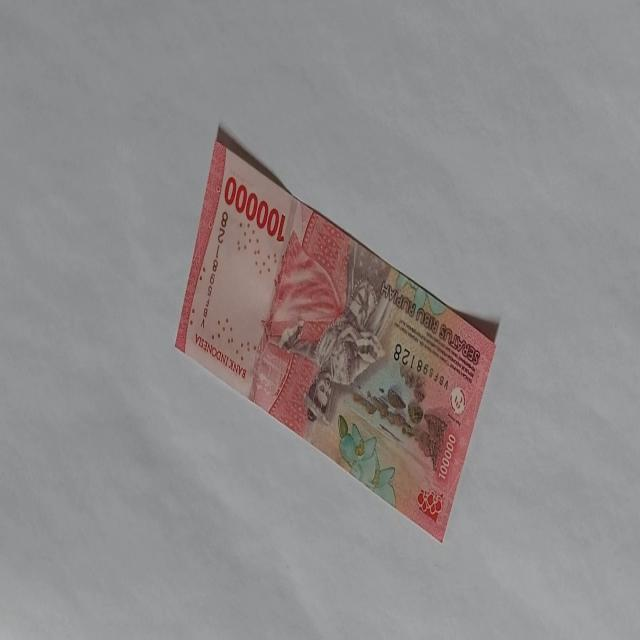seratus ribu rupiah: (174, 133, 498, 543)
